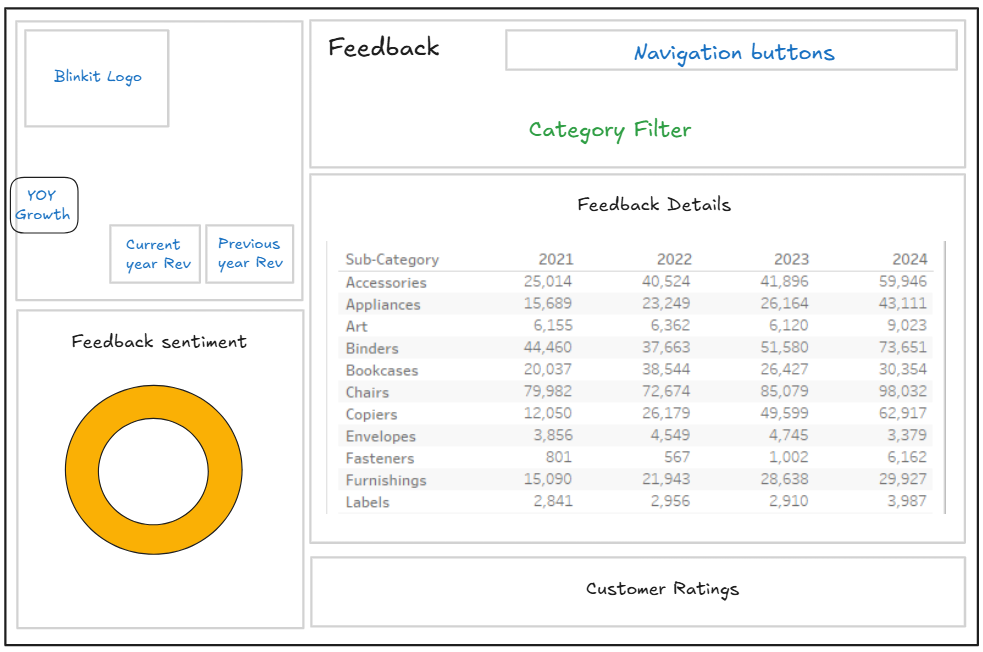

The page's visual inventory and layout, read from the dashboard file:
{"tool":"powerbi","page":{"name":"Feedback","canvas":[1280,720],"ordinal":5},"visuals":[{"type":"shape","box":[31.4,21.4,398,314],"z":0},{"type":"shape","box":[13.8,13.8,408.8,316.2],"z":1000},{"type":"shape","box":[430,13.8,850,202.5],"z":2000},{"type":"advancedSlicerVisual","fields":{"Values":["Master Table.category"]},"box":[433.8,96.2,846.2,81.2],"z":3000},{"type":"image","box":[31.4,21.4,197.1,151.4],"z":4000},{"type":"textbox","box":[31.4,130,197.1,38.6],"z":5000},{"type":"shape","box":[1,210,94,83],"z":6000},{"type":"card","fields":{"Values":["All_Measures.YOY_Growth"]},"box":[0,211.1,91.5,76.8],"z":7000},{"type":"card","fields":{"Values":["All_Measures.Previous_Year_Value"]},"box":[277.5,207.5,133.8,88.8],"z":8000},{"type":"textbox","box":[288.8,273.8,122.5,36.2],"z":9000},{"type":"textbox","box":[122.5,275,118.8,33.8],"z":10000},{"type":"card","fields":{"Values":["All_Measures.Current_Year_Value"]},"box":[115,216.2,142.5,71.2],"z":11000},{"type":"shape","box":[350,63.8,72.5,66.2],"z":12000},{"type":"image","title":"right filter arrow","box":[358.8,70,63.8,56.2],"z":13000},{"type":"textbox","box":[435,21.2,168.8,48.8],"z":14000},{"type":"actionButton","box":[736.2,26.2,86.2,40],"z":15000},{"type":"actionButton","box":[913.8,26.2,75,40],"z":16000},{"type":"actionButton","box":[988.8,26.2,85,40],"z":17000},{"type":"actionButton","box":[1073.8,26.2,100,40],"z":18000},{"type":"actionButton","box":[813.8,26.2,100,40],"z":19000},{"type":"actionButton","box":[1166.2,23.8,100,43.8],"z":20000},{"type":"textbox","box":[436.2,177.5,98.8,32.5],"z":21000},{"type":"textbox","box":[520,178.8,83.8,32.5],"z":22000},{"type":"textbox","box":[590,178.8,88.8,32.5],"z":23000},{"type":"textbox","box":[655,178.8,98.8,32.5],"z":24000},{"type":"textbox","box":[745,178.8,70,32.5],"z":25000},{"type":"textbox","box":[806.2,178.8,98.8,32.5],"z":26000},{"type":"textbox","box":[881.2,178.8,85,32.5],"z":27000},{"type":"textbox","box":[1195,177.5,71.2,32.5],"z":28000},{"type":"textbox","box":[1107.9,178.3,87.3,33.2],"z":29000},{"type":"textbox","box":[1030.4,178.3,86.1,32],"z":30000},{"type":"textbox","box":[950,177.5,98.8,32.5],"z":31000},{"type":"actionButton","box":[349.8,69.4,72.3,57.6],"z":32000},{"type":"shape","box":[14.3,339,414.3,185.7],"z":35000},{"type":"shape","box":[14.3,337.1,414.3,374.3],"z":36000},{"type":"shape","box":[434.3,223,842.9,383],"z":37000},{"type":"shape","box":[435.7,613,842.9,100],"z":38000},{"type":"donutChart","title":"Feedback Sentiment","fields":{"Category":["Master Table.sentiment"],"Y":["All_Measures.Feedback_Count"]},"box":[11.4,338.6,415.7,374.3],"z":39000},{"type":"advancedSlicerVisual","fields":{"Values":["Master Table.rating_label"]},"box":[444.3,615,825.7,95.7],"z":40000},{"type":"card","fields":{"Values":["All_Measures.Feedback_Count"]},"box":[147.1,467.1,141.4,115.7],"z":41000},{"type":"textbox","box":[138.6,555.7,158.6,50],"z":42000},{"type":"tableEx","title":"Feedback Details","fields":{"Values":["Master Table.category","Master Table.product_name","Master Table.star","Master Table.delivery_status","Master Table.feedback_text"]},"box":[444.3,234.3,825.7,361.4],"z":43000}]}

Visuals, with their boxes on the page's 1280x720 design canvas (x1, y1, x2, y2). These are canvas units, not pixel positions in the 983x652 screenshot, which may show the page scaled, cropped or inside an application window:
shape: rect(31, 21, 429, 335)
shape: rect(14, 14, 423, 330)
shape: rect(430, 14, 1280, 216)
advancedSlicerVisual - Master Table.category: rect(434, 96, 1280, 177)
image: rect(31, 21, 228, 173)
textbox: rect(31, 130, 228, 169)
shape: rect(1, 210, 95, 293)
card - All_Measures.YOY_Growth: rect(0, 211, 92, 288)
card - All_Measures.Previous_Year_Value: rect(278, 208, 411, 296)
textbox: rect(289, 274, 411, 310)
textbox: rect(122, 275, 241, 309)
card - All_Measures.Current_Year_Value: rect(115, 216, 258, 287)
shape: rect(350, 64, 422, 130)
"right filter arrow" image: rect(359, 70, 423, 126)
textbox: rect(435, 21, 604, 70)
actionButton: rect(736, 26, 822, 66)
actionButton: rect(914, 26, 989, 66)
actionButton: rect(989, 26, 1074, 66)
actionButton: rect(1074, 26, 1174, 66)
actionButton: rect(814, 26, 914, 66)
actionButton: rect(1166, 24, 1266, 68)
textbox: rect(436, 178, 535, 210)
textbox: rect(520, 179, 604, 211)
textbox: rect(590, 179, 679, 211)
textbox: rect(655, 179, 754, 211)
textbox: rect(745, 179, 815, 211)
textbox: rect(806, 179, 905, 211)
textbox: rect(881, 179, 966, 211)
textbox: rect(1195, 178, 1266, 210)
textbox: rect(1108, 178, 1195, 212)
textbox: rect(1030, 178, 1116, 210)
textbox: rect(950, 178, 1049, 210)
actionButton: rect(350, 69, 422, 127)
shape: rect(14, 339, 429, 525)
shape: rect(14, 337, 429, 711)
shape: rect(434, 223, 1277, 606)
shape: rect(436, 613, 1279, 713)
"Feedback Sentiment" donutChart: rect(11, 339, 427, 713)
advancedSlicerVisual - Master Table.rating_label: rect(444, 615, 1270, 711)
card - All_Measures.Feedback_Count: rect(147, 467, 288, 583)
textbox: rect(139, 556, 297, 606)
"Feedback Details" tableEx: rect(444, 234, 1270, 596)
